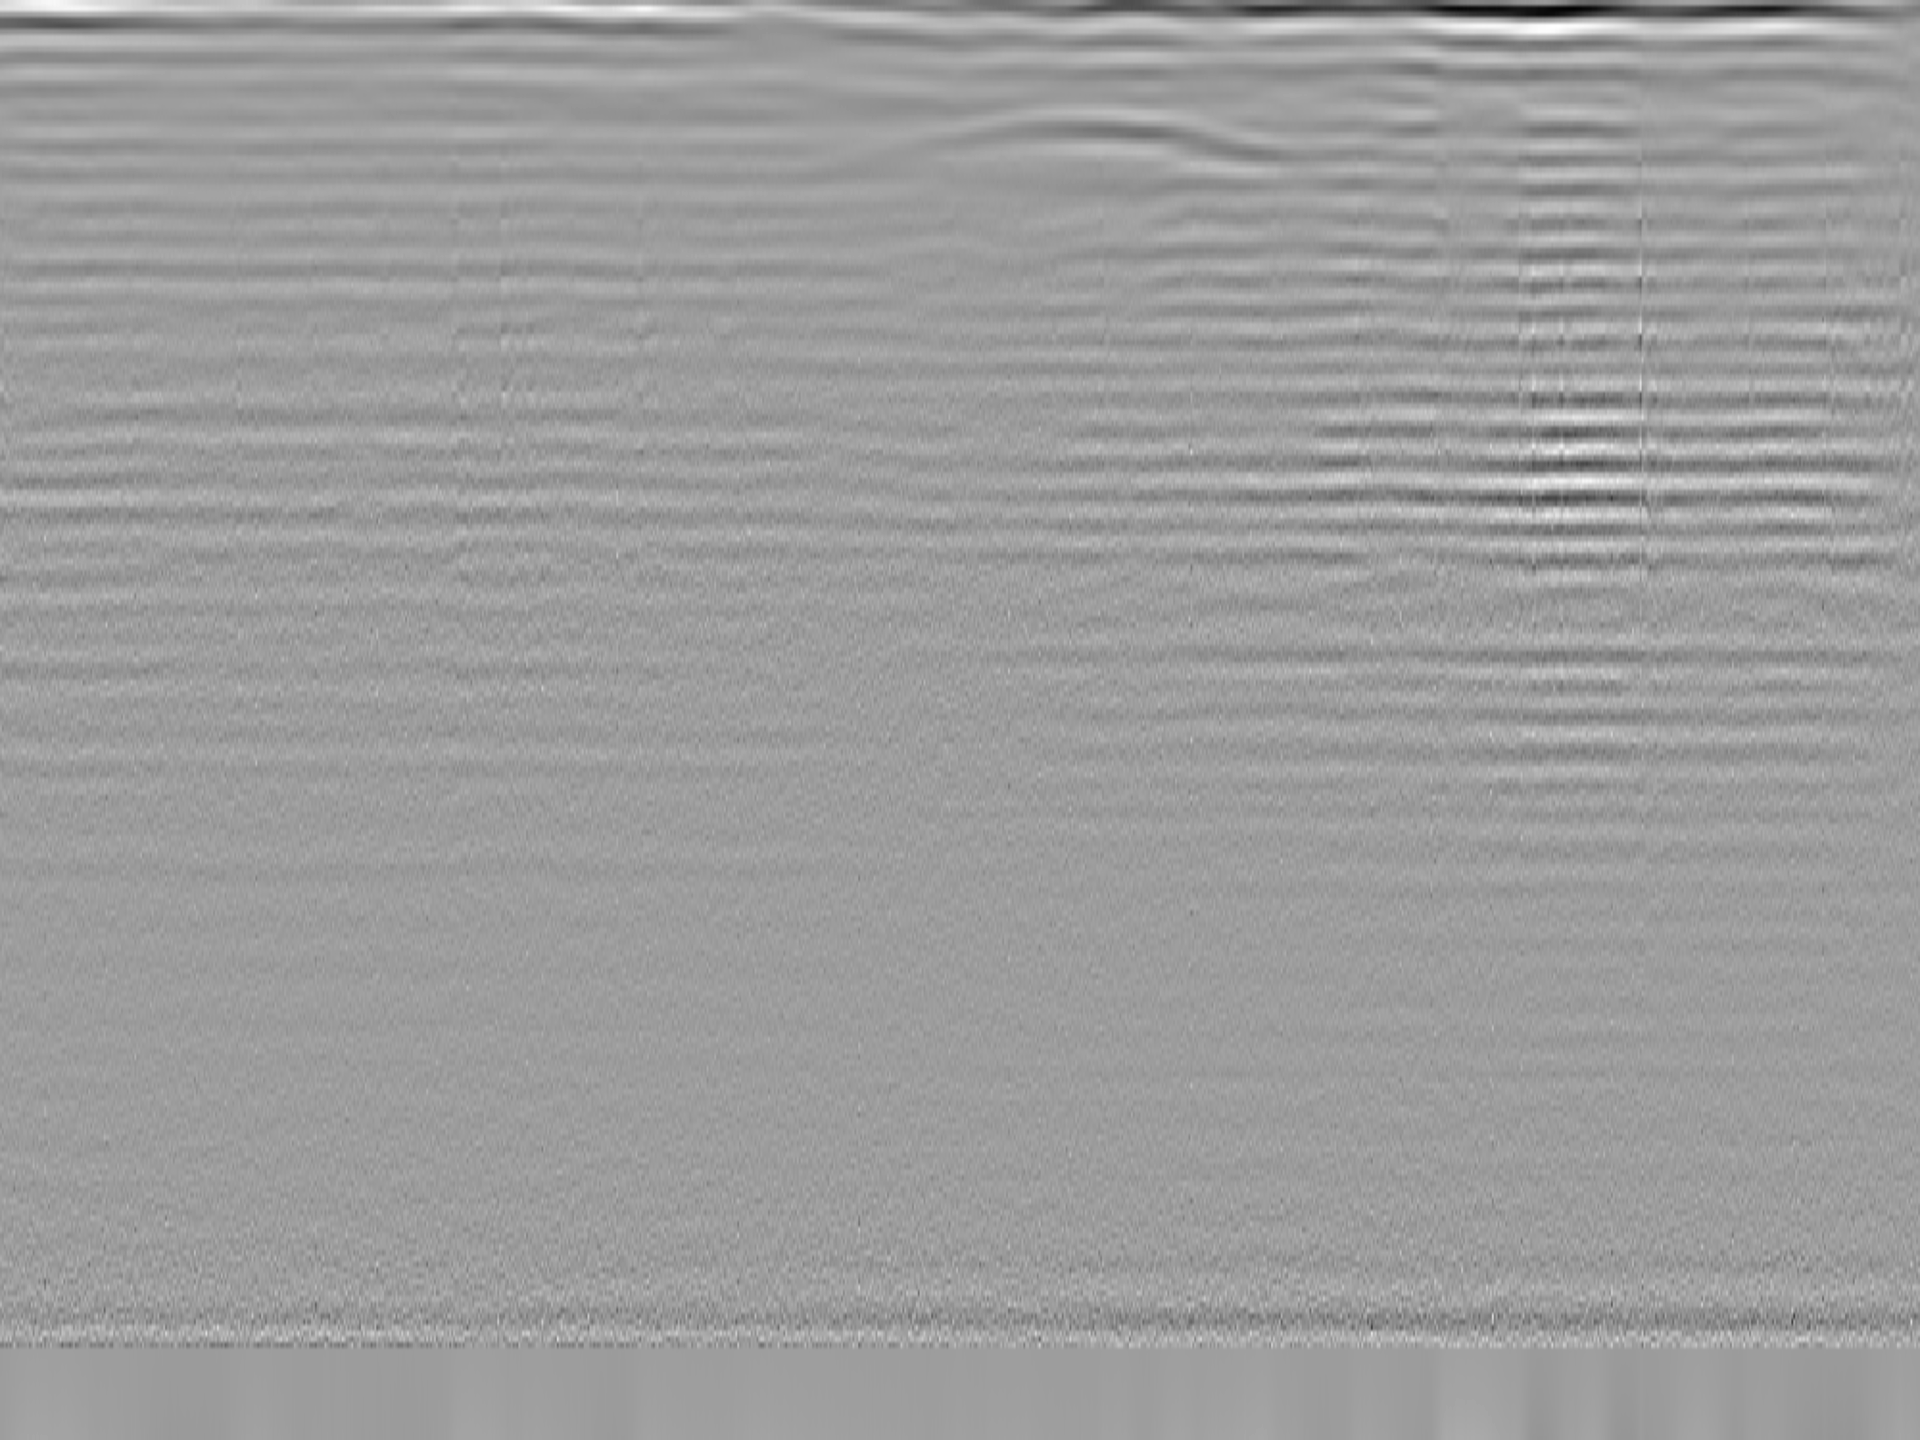Tunnel: (838, 109, 1320, 166)
